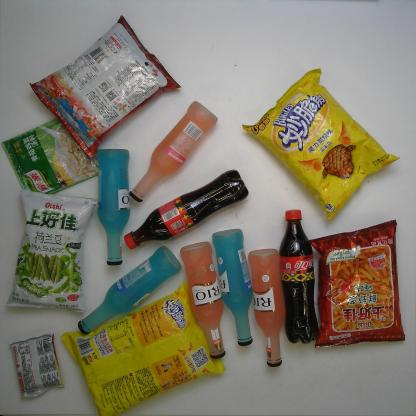Alcohol: (76, 245, 182, 334), (129, 101, 219, 203), (180, 241, 227, 360), (211, 228, 256, 348), (248, 247, 286, 368), (95, 147, 132, 266)
Dessert: (10, 332, 65, 399)
Drink: (124, 169, 250, 250), (279, 209, 318, 344)
Puffed Food: (241, 66, 400, 223), (28, 15, 182, 160), (62, 282, 226, 414), (310, 219, 406, 351), (4, 188, 98, 316)
Seasoner: (1, 109, 104, 199)
